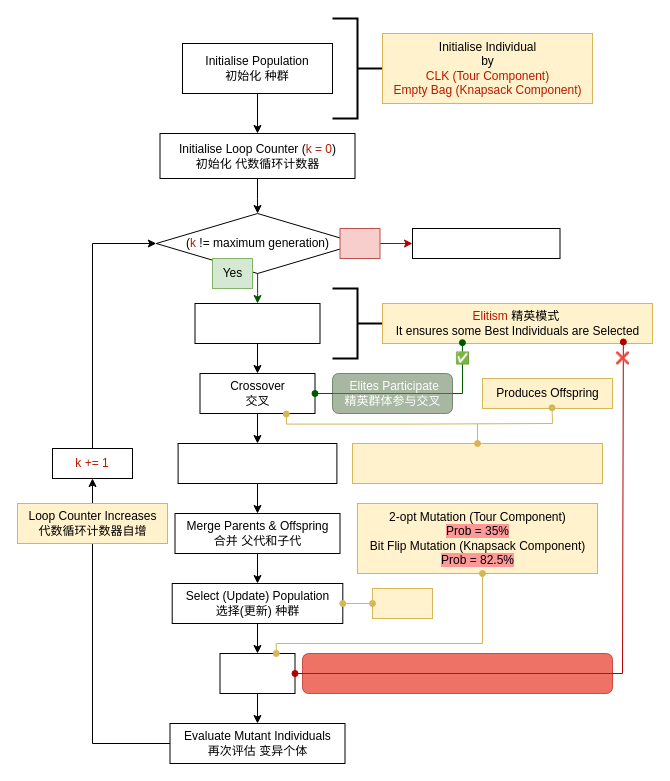
This 670x781 diagram has some shape labels left out. The shapes that lost their labels are listed below. From the top down, each one's centre as x and y in pixels, then its label:
point 359,243: No
point 486,243: Return Best Individual
point 257,323: Select Parents 选择 父代群体
point 257,463: Evaluate New Individuals 评估 新个体
point 477,463: Order Crossover (Tour Component) N-point Crossover (Knapsack Component)
point 402,603: Elitism
point 257,673: Mutate 变异
point 457,673: Elites Skip Mutation (Avoiding to ruin Good Solution) 精英群体并不参与变异，防止破坏当前优质解
